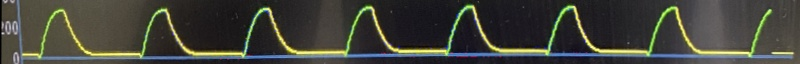normal_volume: (23, 0, 766, 63)
